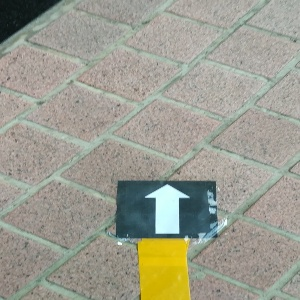straight: (116, 182, 217, 239)
